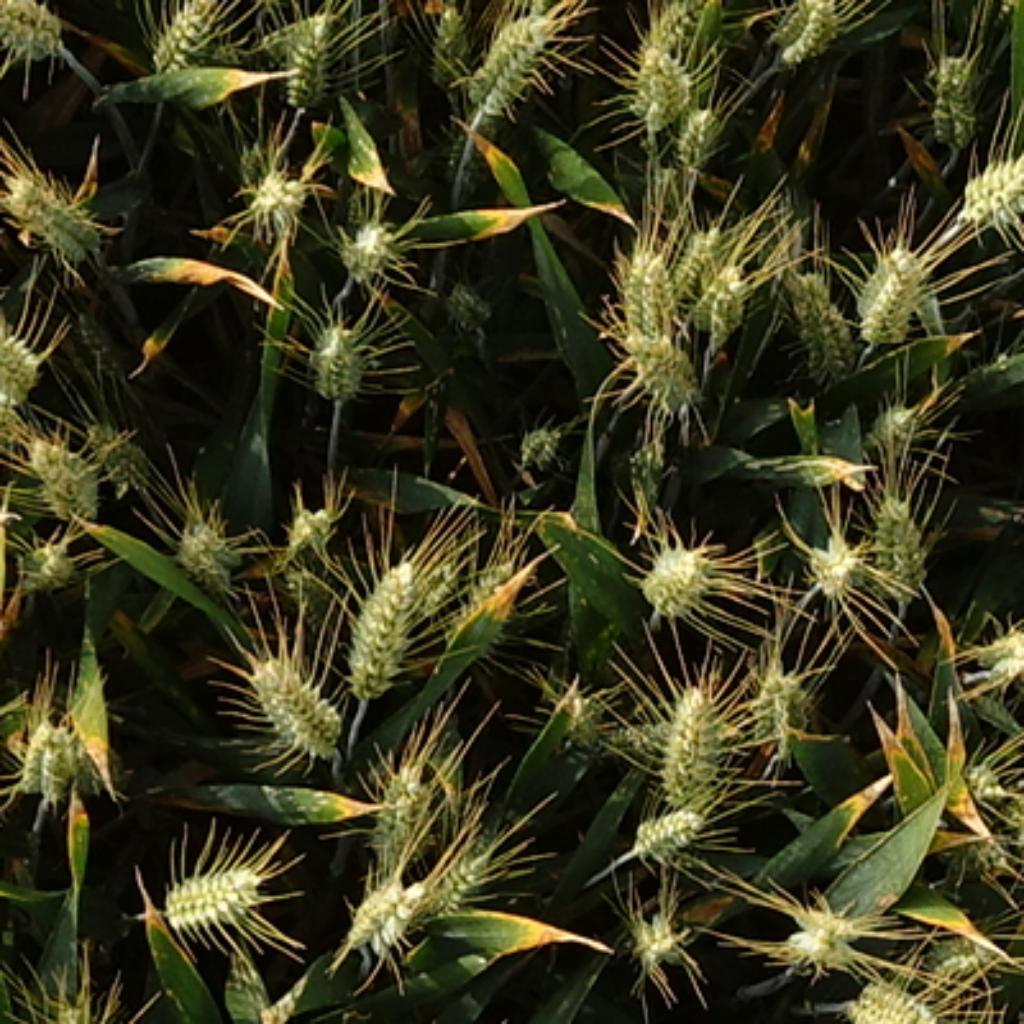0-0: (340, 540, 435, 693), (240, 640, 350, 755), (647, 675, 737, 798), (2, 153, 107, 258), (463, 2, 563, 112), (773, 258, 857, 376), (448, 550, 537, 661), (849, 230, 934, 343), (151, 847, 268, 929), (340, 857, 442, 949), (611, 322, 704, 422), (12, 704, 104, 798), (263, 2, 345, 104), (622, 38, 698, 145), (367, 757, 433, 878), (919, 35, 993, 140), (862, 481, 934, 588), (20, 424, 104, 514), (300, 304, 377, 399), (696, 248, 765, 353), (609, 243, 680, 345), (637, 540, 721, 624), (140, 2, 227, 79), (406, 850, 485, 934), (778, 890, 867, 962), (952, 135, 1024, 222), (744, 655, 816, 739), (842, 965, 942, 1024), (171, 504, 245, 583), (279, 550, 353, 627), (762, 2, 849, 64), (2, 320, 58, 414), (670, 217, 727, 309), (627, 793, 711, 855), (332, 202, 404, 273), (87, 409, 156, 483), (2, 2, 84, 64), (240, 151, 309, 222), (422, 2, 481, 84), (801, 524, 867, 596), (922, 927, 1001, 983), (640, 2, 719, 58), (12, 529, 81, 593), (857, 391, 926, 453), (668, 94, 729, 163), (955, 828, 1022, 885), (970, 611, 1024, 680), (279, 494, 340, 552), (961, 755, 1017, 809), (512, 412, 568, 463), (632, 914, 687, 962), (561, 694, 601, 754), (452, 285, 488, 331)
